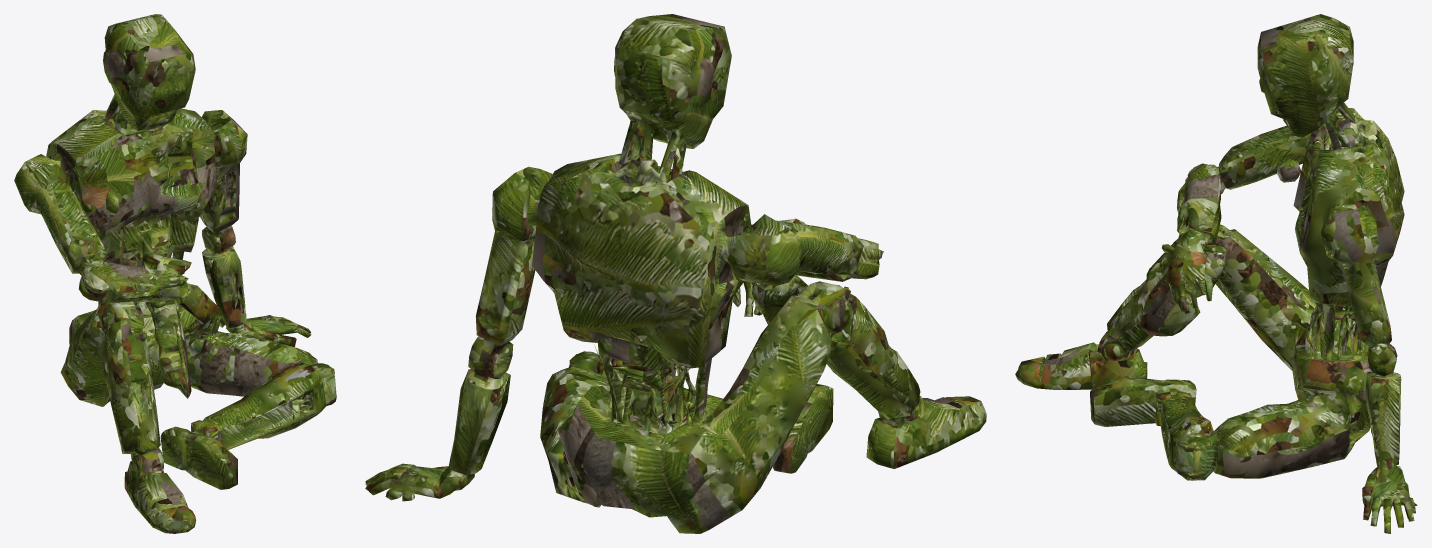
File: DamagedRobot.fbx
3 views of the same model, side by side, from view 1: azimuth 30°, elevation 25°; view 2: azimuth 150°, elevation 25°; view 3: azimuth 270°, elevation 25° (orthographic). The views are drawn at different scales.
Parts seen in each view (by area): view 1: mesh_node; view 2: mesh_node; view 3: mesh_node.
Part boxes in pixels (bbox=[...]): mesh_node: bbox=[14, 14, 336, 533]; mesh_node: bbox=[365, 14, 986, 533]; mesh_node: bbox=[1015, 14, 1417, 533].
Size of the model in its own units: 1.69 by 1.97 by 1.75.
